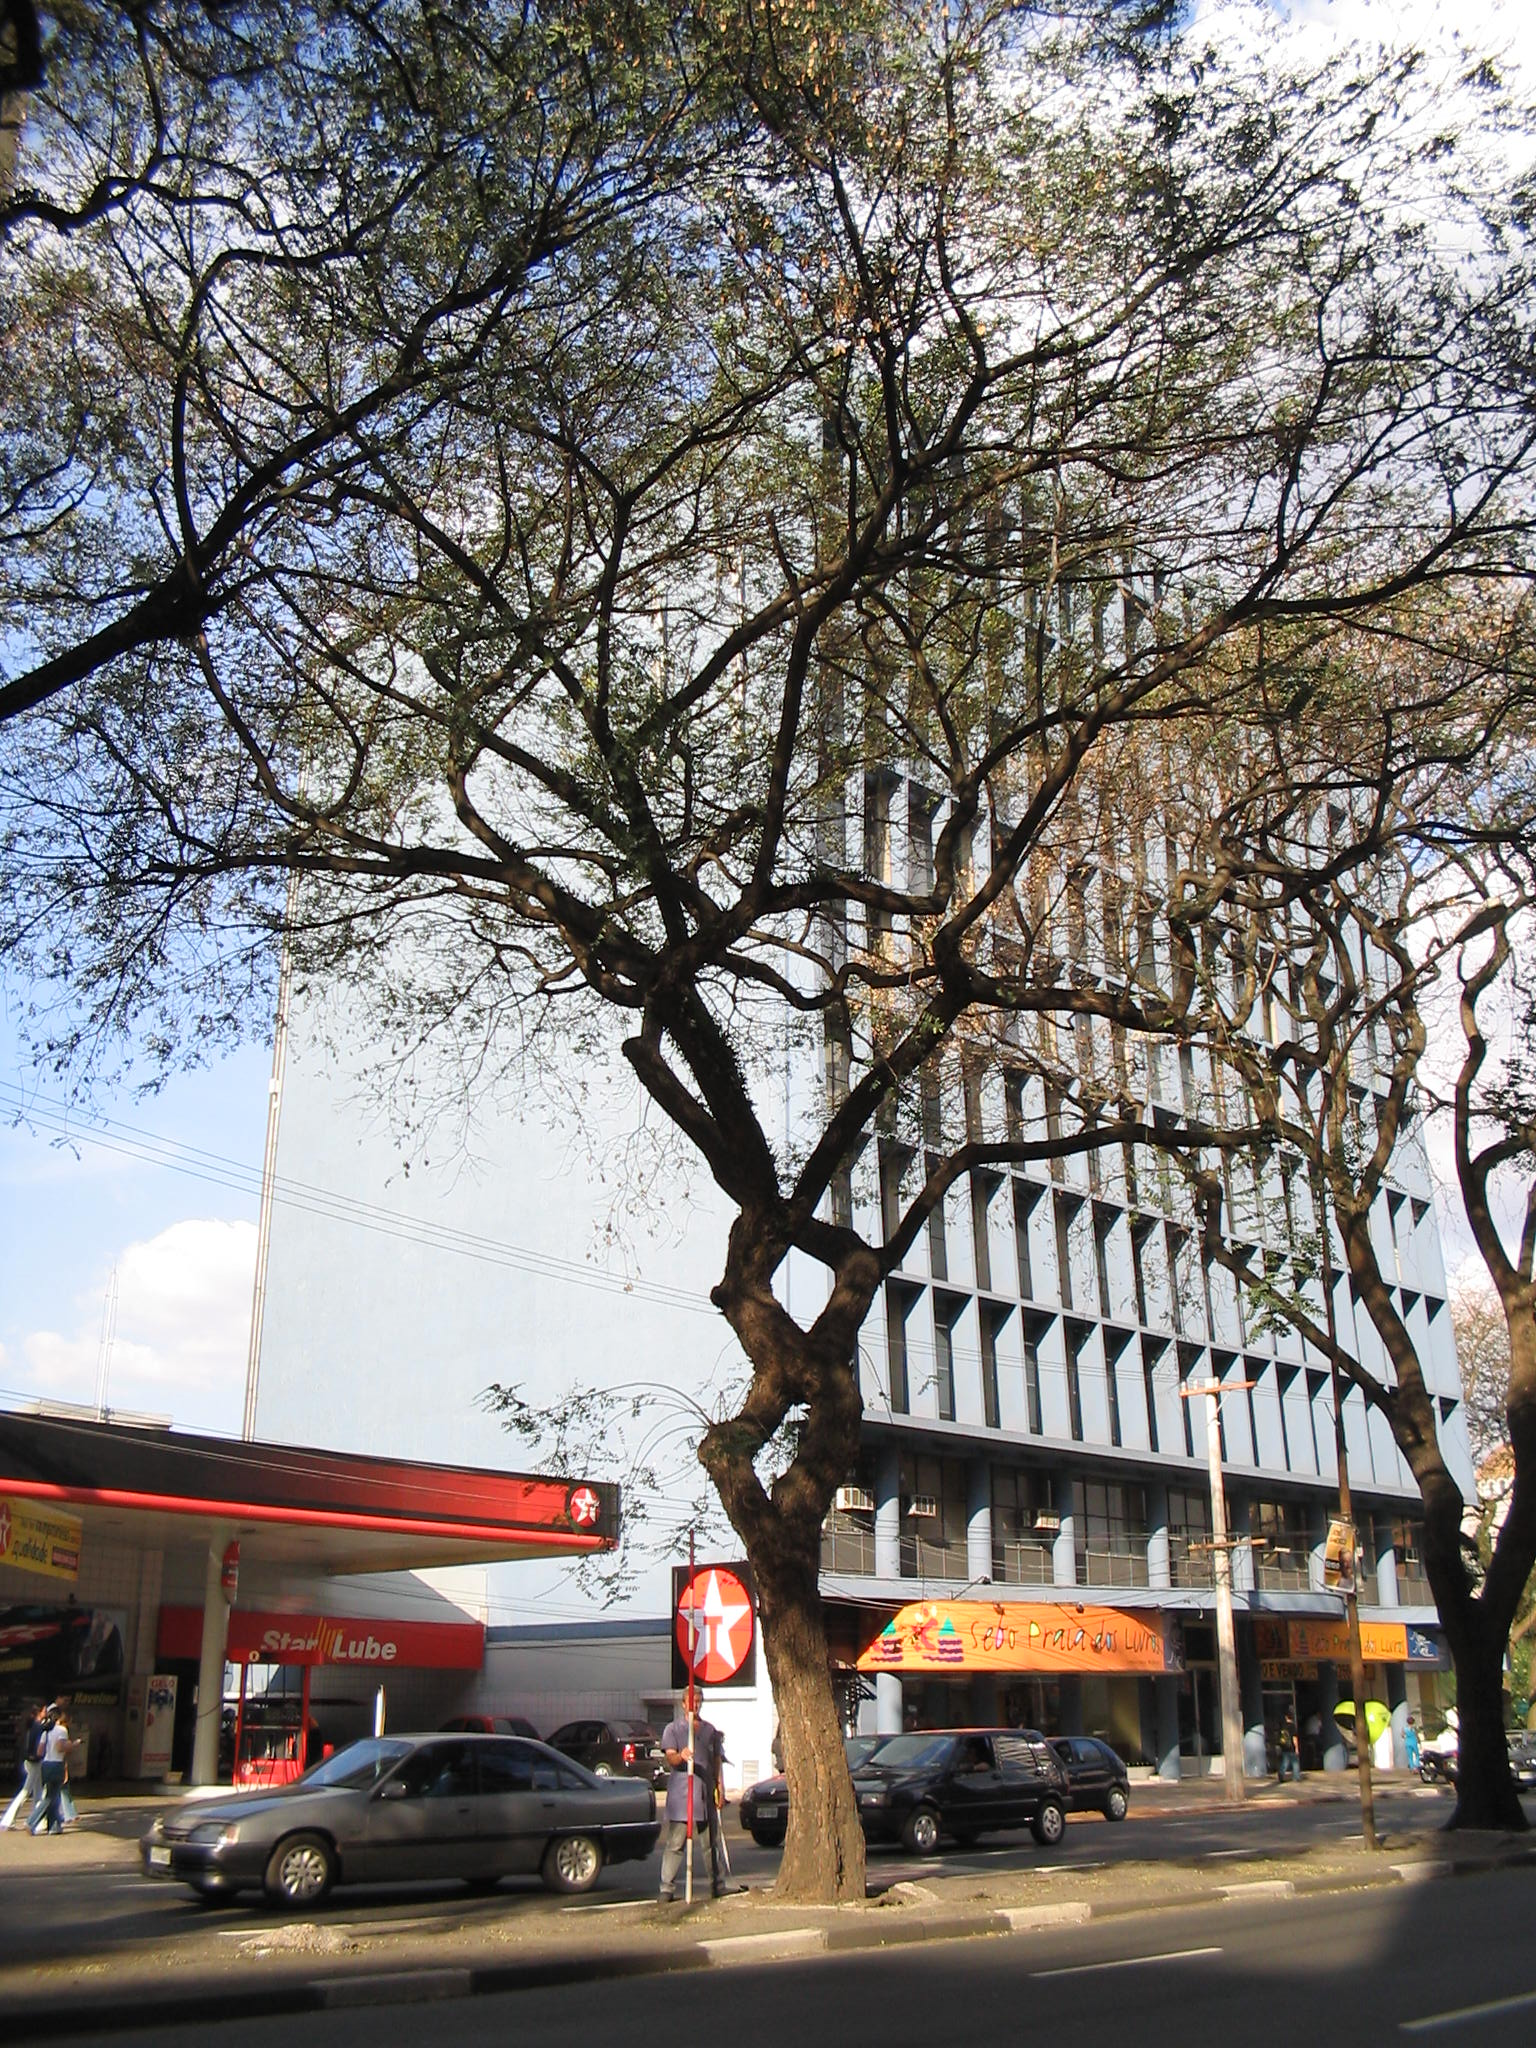stem: (720, 1532, 908, 1903)
stick: (666, 1529, 707, 1904)
tree: (139, 13, 1325, 1895)
